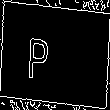P_N: (44, 28, 66, 82)
